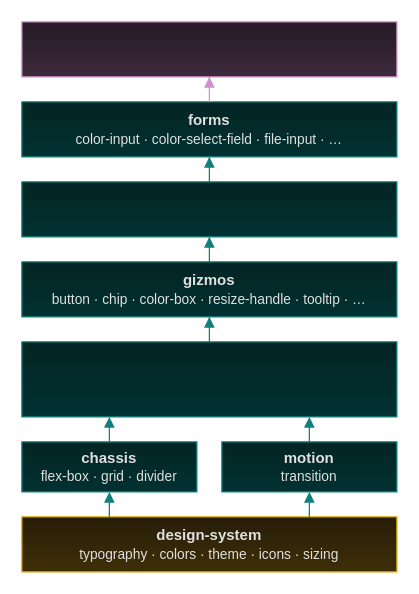
The diagram is 419 pixels wide and 594 high, and some of its shapes have lost their labels. Here are the shapes that lost their labels. From the top down, the centre of each, then its label:
At point 209,49: "assemblies theme-mode-toggle · theme-select".
At point 209,209: "rigs popup · dialog · tabstrip · menu".
At point 209,379: "hud hexagon · panel · bevel-panel · notched-panel decoration · connector".
